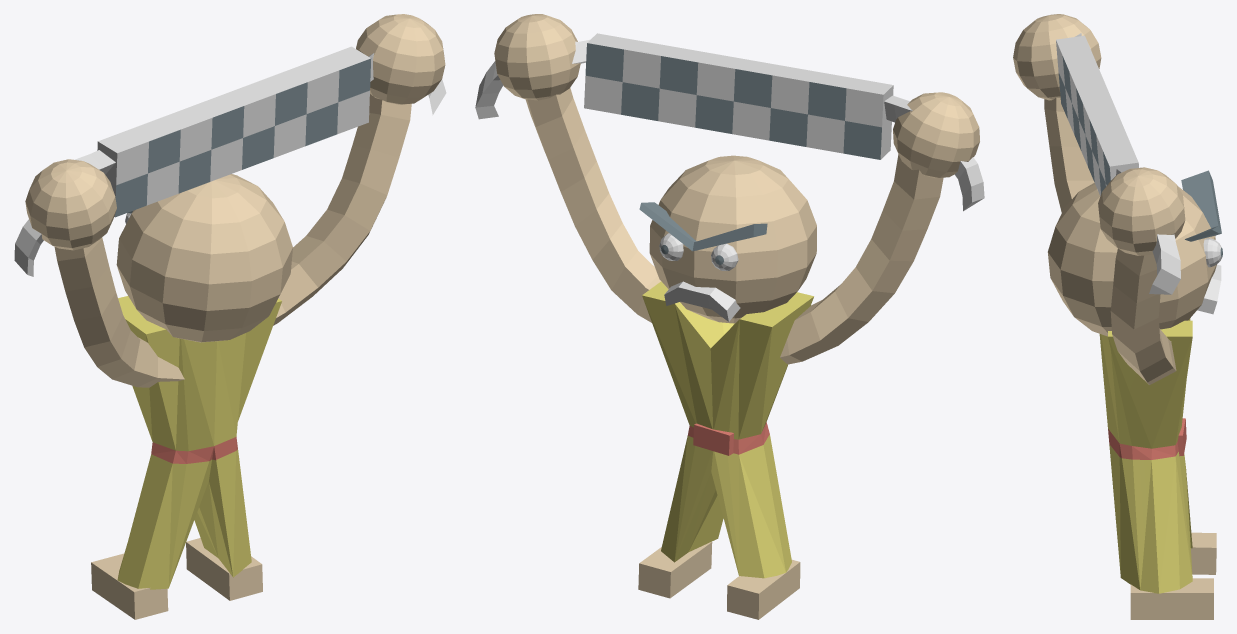
The model's file is OneStacheMan.fbx.
3 renders of one model, left to right at view 1: azimuth 30°, elevation 25°; view 2: azimuth 150°, elevation 25°; view 3: azimuth 270°, elevation 25°, orthographic. The views are drawn at different scales.
Parts seen in each view (by area): view 1: mesh_630416951, mesh_787823960, mesh_292026565, group_2115755769, group_821462089, mesh_120709965, mesh_1225196919, mesh_774629720, mesh_1397108788, group_1370246622; view 2: mesh_630416951, mesh_292026565, mesh_787823960, group_821462089, group_2115755769, mesh_1225196919, mesh_120709965, mesh_1397108788, mesh_774629720, mesh_550424650, mesh_1455311762, group_1370246622 (+2 smaller); view 3: mesh_630416951, mesh_787823960, mesh_292026565, group_2115755769, mesh_1225196919, mesh_120709965, group_821462089, mesh_1397108788, group_297210305, mesh_550424650, mesh_774629720, mesh_1455311762 (+1 smaller).
Part boxes in pixels (x1,y1,x2,y2): mesh_630416951: [117, 296, 281, 589]; mesh_787823960: [116, 174, 292, 342]; mesh_292026565: [97, 46, 371, 217]; group_2115755769: [273, 94, 411, 325]; group_821462089: [54, 237, 184, 387]; mesh_120709965: [25, 159, 116, 250]; mesh_1225196919: [356, 14, 445, 104]; mesh_774629720: [91, 553, 168, 619]; mesh_1397108788: [186, 538, 262, 600]; group_1370246622: [14, 150, 115, 276]; mesh_630416951: [642, 281, 813, 578]; mesh_292026565: [584, 33, 893, 159]; mesh_787823960: [649, 155, 816, 323]; group_821462089: [780, 154, 943, 364]; group_2115755769: [526, 88, 660, 322]; mesh_1225196919: [494, 14, 580, 100]; mesh_120709965: [893, 92, 979, 178]; mesh_1397108788: [638, 542, 712, 598]; mesh_774629720: [727, 559, 800, 619]; mesh_550424650: [639, 202, 767, 251]; mesh_1455311762: [664, 281, 740, 321]; group_1370246622: [884, 95, 984, 211]; mesh_630416951: [1099, 318, 1192, 593]; mesh_787823960: [1047, 183, 1216, 336]; mesh_292026565: [1056, 35, 1138, 195]; group_2115755769: [1110, 248, 1176, 384]; mesh_1225196919: [1098, 167, 1185, 255]; mesh_120709965: [1013, 14, 1101, 100]; group_821462089: [1044, 97, 1094, 212]; mesh_1397108788: [1130, 578, 1213, 619]; group_297210305: [1116, 169, 1180, 294]; mesh_550424650: [1181, 170, 1221, 241]; mesh_774629720: [1191, 532, 1216, 574]; mesh_1455311762: [1197, 264, 1221, 314].
Size of the model in its own units: 142 by 154 by 56.86.
